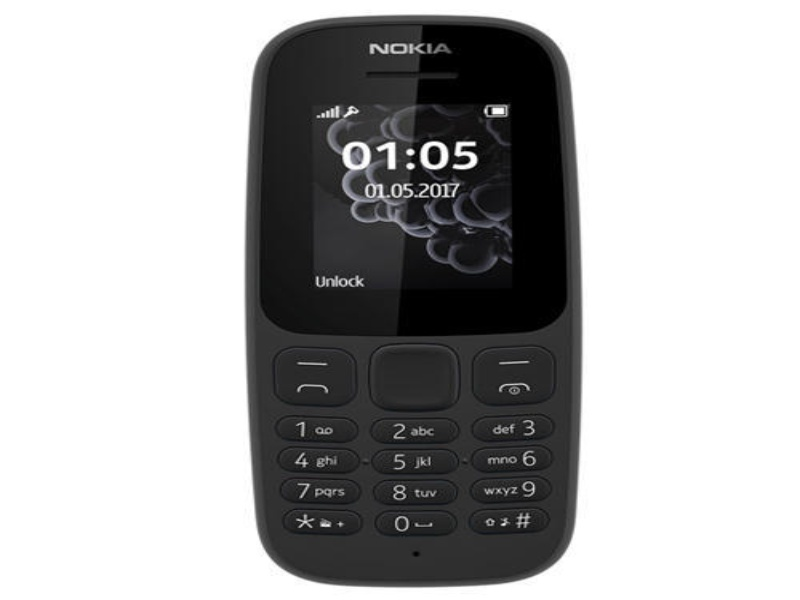mobile: (235, 11, 594, 600)
